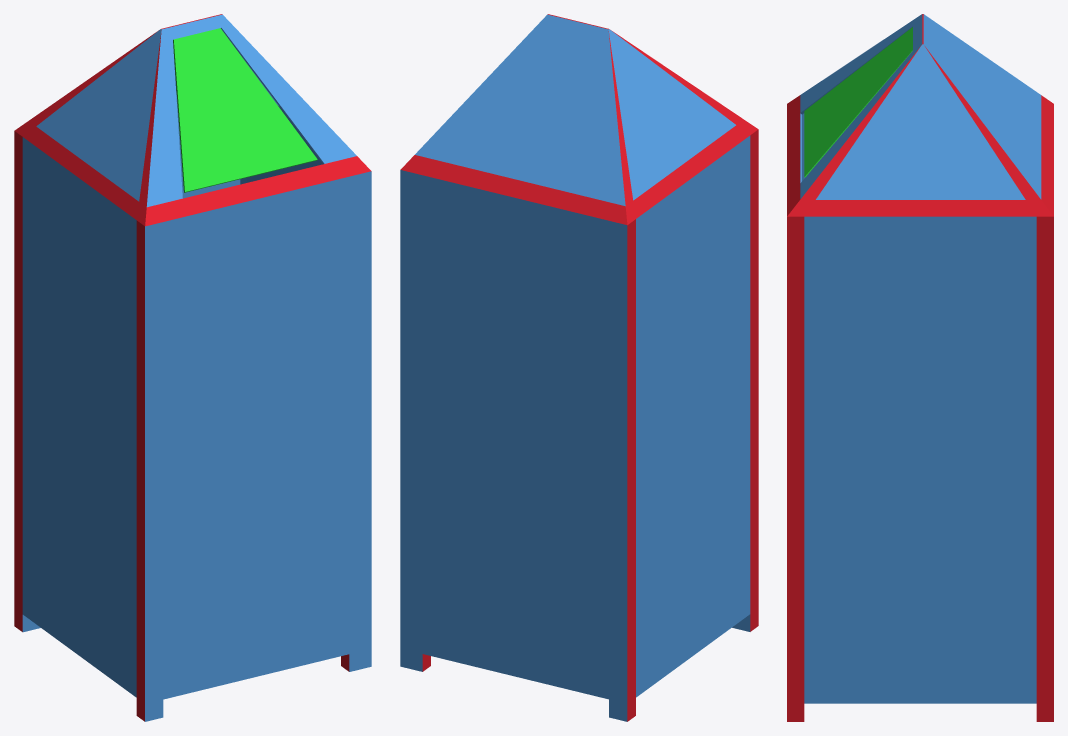
The model's file is Trash_Bin(v3).fbx.
3 views of the same model, side by side, from view 1: azimuth 30°, elevation 25°; view 2: azimuth 150°, elevation 25°; view 3: azimuth 270°, elevation 25° (orthographic). The views are drawn at different scales.
Parts seen in each view (by area): view 1: Cube; view 2: Cube; view 3: Cube.
Boxes of the visible parts, x1,y1,x2,y2 form: Cube: [14, 14, 371, 721]; Cube: [400, 14, 758, 721]; Cube: [787, 14, 1053, 721].
Bounding box in the file's own units: 200 × 526 × 200.
